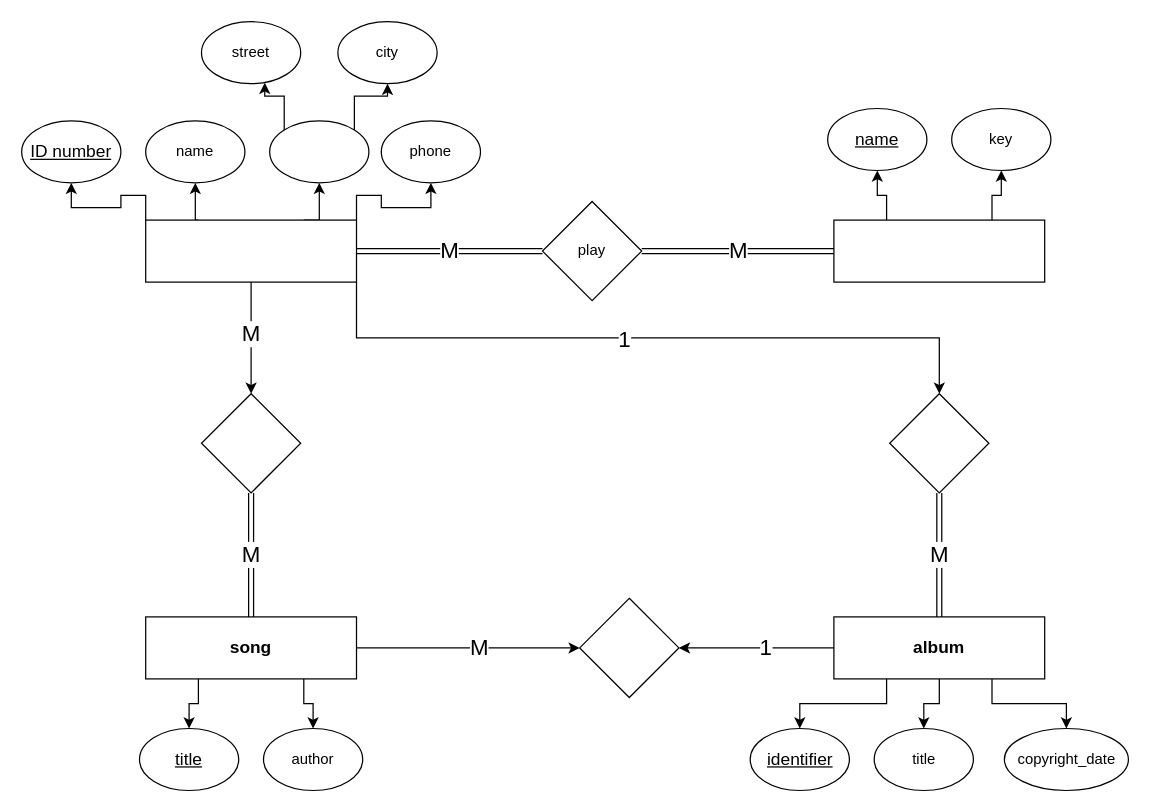
The diagram is 1151 pixels wide and 812 high, and some of its shapes have lost their labels. The centre of each missing label's shape, as x and y in pixels:
address: the point at 318,151
has: the point at 628,647
instrument: the point at 939,250
musician: the point at 250,250
perform: the point at 250,442
produce: the point at 938,442
